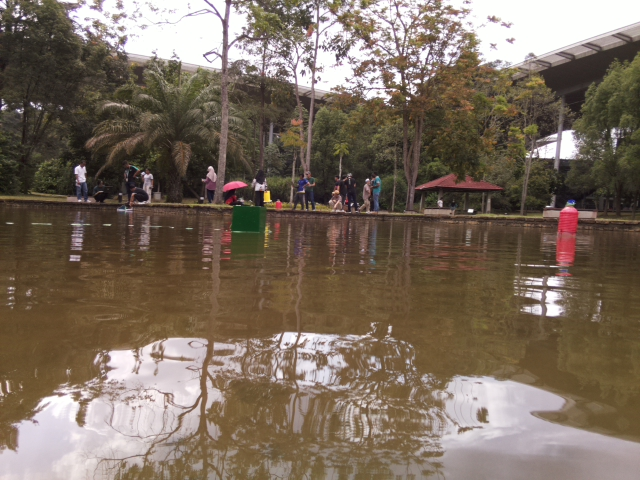obstacle: (231, 204, 267, 234)
